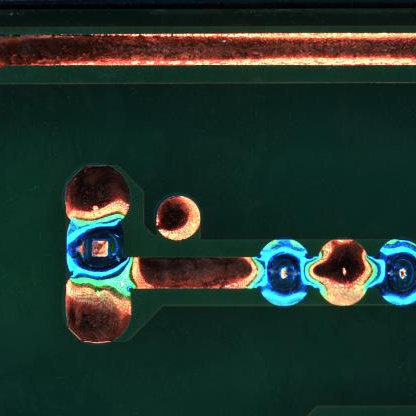spot: (63, 217, 129, 283), (255, 235, 310, 308), (375, 237, 416, 307)
